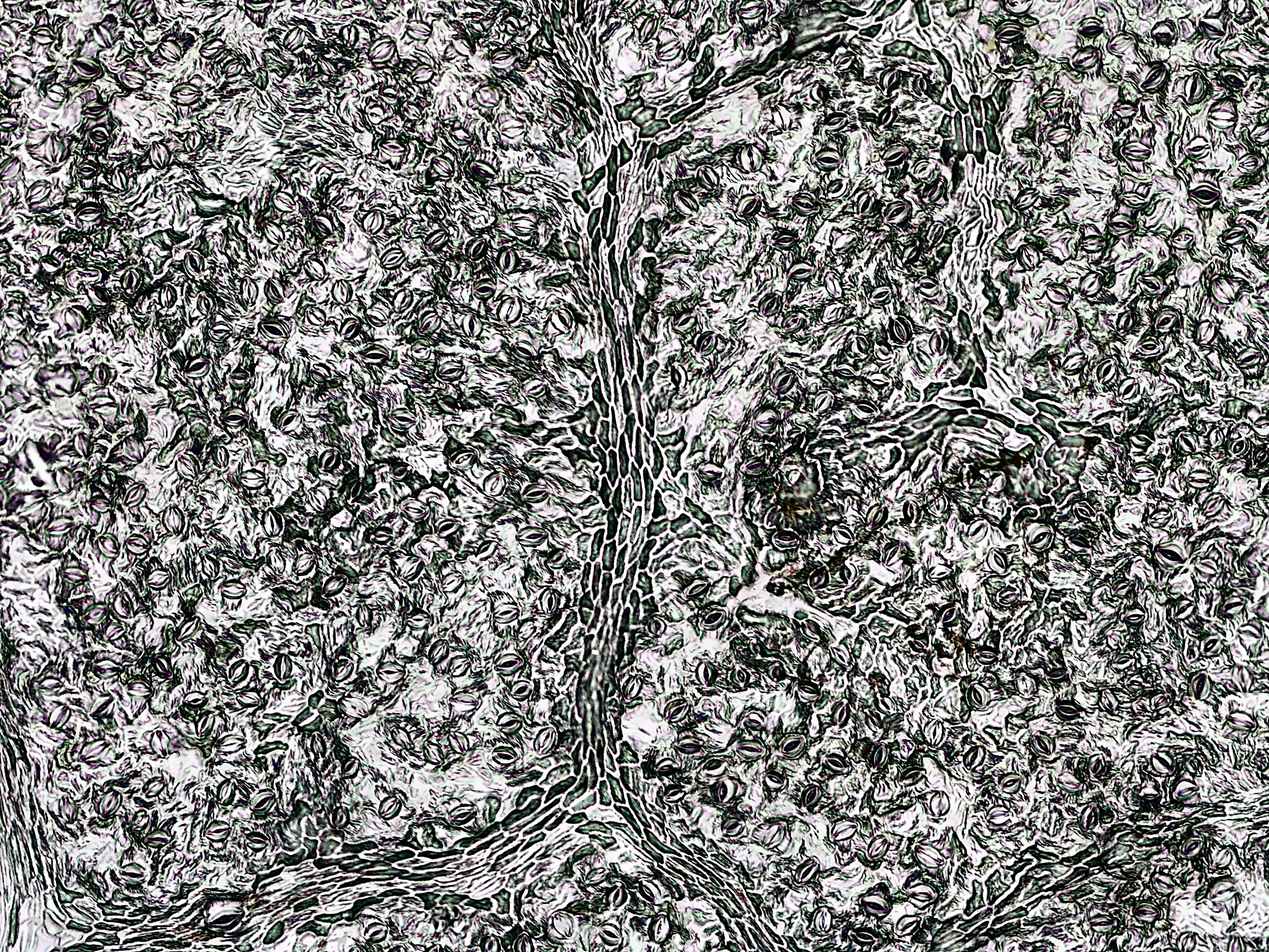stomata: (205, 905, 247, 931), (1071, 46, 1102, 74), (1154, 542, 1186, 569), (913, 843, 948, 867), (467, 157, 499, 183), (1189, 181, 1221, 207), (258, 316, 291, 341), (1150, 308, 1183, 333), (994, 21, 1028, 45), (1210, 276, 1238, 305), (1026, 524, 1055, 552), (738, 144, 765, 174), (635, 10, 660, 42), (1183, 72, 1207, 105), (734, 738, 767, 762), (860, 892, 893, 916), (672, 190, 700, 218), (534, 727, 559, 758), (337, 695, 369, 719), (368, 36, 395, 64), (778, 734, 807, 760), (448, 446, 478, 471), (812, 148, 843, 172), (821, 750, 852, 774), (398, 498, 430, 521), (1063, 532, 1095, 555), (24, 178, 52, 204), (694, 162, 719, 191), (1107, 212, 1136, 237), (173, 617, 202, 642), (924, 488, 949, 517), (515, 525, 551, 545), (494, 649, 524, 673), (694, 459, 724, 483), (215, 732, 249, 753), (150, 140, 173, 171), (0, 340, 31, 363), (1137, 274, 1168, 297), (171, 81, 203, 103), (376, 135, 408, 157), (249, 790, 276, 816), (792, 857, 818, 884), (735, 193, 763, 218), (175, 452, 200, 480), (1207, 877, 1236, 901), (924, 717, 945, 750), (1236, 153, 1266, 176), (45, 514, 75, 537), (261, 507, 284, 537), (72, 55, 103, 77), (219, 406, 250, 428), (162, 505, 184, 536), (1227, 711, 1258, 733), (88, 693, 114, 719), (440, 568, 466, 594), (423, 227, 450, 252), (1141, 63, 1166, 90), (1013, 185, 1038, 212), (377, 793, 402, 820), (761, 822, 786, 849), (884, 201, 912, 225), (1220, 225, 1252, 246), (550, 912, 574, 940), (962, 744, 986, 772), (1076, 16, 1105, 39), (376, 661, 405, 684), (539, 587, 562, 616), (1014, 670, 1037, 699), (116, 67, 146, 89), (45, 133, 67, 163), (387, 408, 417, 430), (92, 657, 122, 679), (142, 828, 172, 850), (649, 913, 671, 943), (1189, 669, 1211, 699), (1109, 32, 1137, 55), (1150, 22, 1178, 45), (1183, 137, 1211, 160), (81, 739, 109, 762), (741, 453, 769, 476), (359, 344, 391, 364), (770, 531, 802, 551), (497, 245, 519, 274), (889, 316, 911, 345), (865, 502, 887, 531), (880, 65, 901, 95), (1019, 243, 1040, 273), (521, 483, 551, 504), (1132, 898, 1162, 919), (1174, 432, 1199, 457), (261, 221, 287, 245), (853, 191, 877, 217), (493, 601, 519, 625), (770, 369, 794, 395), (881, 541, 905, 567), (1151, 869, 1175, 895), (120, 267, 143, 294), (183, 355, 210, 378), (483, 470, 506, 497), (55, 466, 78, 493), (123, 481, 146, 508), (810, 388, 833, 415), (713, 776, 736, 803), (1121, 141, 1152, 161), (1208, 108, 1239, 128), (498, 117, 526, 139), (196, 289, 218, 317), (1234, 346, 1262, 368), (265, 548, 287, 576), (451, 691, 479, 713), (928, 790, 950, 818), (812, 905, 833, 934), (1054, 700, 1083, 721), (74, 201, 104, 221), (1079, 273, 1104, 297), (1134, 337, 1164, 357), (821, 301, 846, 325), (277, 409, 302, 433), (399, 555, 423, 580), (205, 818, 230, 842), (421, 741, 445, 766), (1194, 321, 1217, 347), (1200, 493, 1226, 516), (123, 436, 146, 462), (437, 393, 463, 416), (963, 519, 989, 542), (967, 683, 990, 709), (283, 25, 305, 52), (831, 233, 858, 255), (120, 862, 147, 884), (496, 711, 523, 733), (638, 877, 660, 904), (664, 700, 691, 722), (620, 675, 642, 702), (830, 820, 857, 842), (849, 400, 880, 419), (185, 249, 206, 277), (471, 279, 499, 300), (89, 394, 117, 415), (462, 310, 483, 338), (553, 306, 574, 334), (239, 469, 267, 490), (150, 729, 171, 757), (345, 477, 366, 505), (98, 789, 119, 817), (449, 803, 477, 824), (656, 40, 685, 60), (738, 0, 767, 20), (868, 742, 888, 771), (451, 33, 475, 57), (322, 573, 346, 597), (339, 755, 363, 779), (599, 923, 623, 947), (7, 64, 32, 87), (781, 311, 806, 334), (48, 703, 71, 728), (292, 551, 315, 576), (391, 725, 414, 750), (793, 193, 819, 215), (1082, 232, 1108, 254), (1228, 434, 1250, 460), (896, 915, 922, 937), (65, 305, 86, 332), (500, 297, 521, 324), (1219, 67, 1246, 88), (1060, 353, 1087, 374), (98, 531, 119, 558), (448, 728, 469, 755), (492, 745, 519, 766), (606, 883, 627, 910), (755, 410, 782, 431), (198, 39, 226, 59), (511, 215, 539, 235), (880, 144, 908, 164), (1233, 664, 1253, 692), (274, 654, 292, 685), (476, 84, 500, 107), (547, 104, 571, 127), (87, 281, 110, 305), (271, 189, 295, 212), (465, 236, 488, 260), (1172, 226, 1195, 250), (758, 292, 781, 316), (673, 309, 696, 333), (151, 654, 175, 677), (807, 566, 831, 589), (1179, 834, 1203, 857), (239, 277, 258, 306), (1120, 190, 1149, 209), (437, 361, 466, 380), (125, 677, 154, 696), (59, 794, 78, 823), (157, 40, 182, 62), (380, 248, 405, 270), (868, 285, 893, 307), (126, 533, 151, 555), (1220, 594, 1245, 616), (1171, 778, 1196, 800), (0, 155, 21, 181), (418, 310, 439, 336), (436, 517, 462, 538), (696, 660, 717, 686), (867, 833, 888, 859), (1032, 729, 1053, 755), (197, 711, 215, 741), (987, 546, 1007, 573), (1079, 802, 1097, 832), (92, 21, 111, 49), (363, 208, 382, 236), (825, 270, 844, 298), (930, 329, 949, 357), (1131, 462, 1159, 481), (216, 778, 235, 806), (700, 611, 728, 630), (909, 883, 937, 902), (898, 767, 926, 786), (1087, 752, 1106, 780), (784, 427, 807, 450), (875, 691, 898, 714), (1151, 751, 1174, 774), (183, 129, 205, 153), (209, 320, 233, 342), (219, 582, 250, 599), (834, 697, 851, 728), (673, 736, 704, 753), (916, 275, 941, 296), (1119, 376, 1140, 401), (83, 604, 108, 625), (114, 593, 135, 618), (405, 609, 430, 630), (833, 524, 858, 545), (158, 281, 176, 310), (265, 277, 285, 303), (394, 287, 414, 313), (333, 277, 353, 303), (697, 331, 717, 357), (1072, 502, 1098, 522), (926, 564, 953, 583), (865, 374, 895, 391), (764, 769, 787, 791), (38, 252, 62, 273), (429, 156, 453, 177), (774, 102, 792, 130), (522, 376, 546, 397), (236, 690, 264, 708), (428, 639, 449, 663), (329, 806, 350, 830), (1090, 914, 1118, 932), (90, 361, 110, 386), (1249, 122, 1269, 147), (1046, 284, 1071, 304), (38, 676, 63, 696), (355, 604, 375, 629), (902, 499, 922, 524), (831, 644, 851, 669), (743, 710, 768, 730), (995, 585, 1020, 605), (986, 805, 1011, 825), (672, 360, 688, 391), (30, 25, 56, 44), (410, 64, 436, 83), (923, 180, 942, 206), (1047, 127, 1073, 146), (74, 431, 93, 457), (103, 622, 129, 641), (786, 261, 815, 278), (1187, 471, 1216, 488), (1113, 100, 1140, 118), (365, 921, 387, 943), (365, 306, 388, 327), (937, 603, 958, 626), (997, 772, 1020, 793), (228, 368, 252, 388), (1004, 0, 1034, 16), (1116, 311, 1136, 335), (776, 231, 800, 251), (6, 384, 30, 404), (474, 540, 498, 560), (510, 681, 534, 701), (798, 682, 822, 702), (801, 783, 821, 807), (850, 928, 878, 945), (512, 339, 537, 358), (319, 448, 338, 473), (89, 493, 114, 512), (584, 866, 609, 885), (1097, 358, 1115, 384), (1145, 510, 1171, 528), (684, 579, 710, 597), (661, 784, 687, 802), (1135, 784, 1161, 802), (311, 731, 327, 760), (90, 123, 112, 144), (306, 305, 328, 326), (450, 124, 471, 146), (1200, 18, 1222, 39), (311, 362, 333, 383), (148, 568, 169, 590), (331, 659, 352, 681), (513, 931, 535, 952), (646, 616, 667, 638), (1173, 931, 1195, 952), (1200, 634, 1221, 656), (407, 20, 430, 40), (389, 461, 412, 481), (307, 488, 327, 511), (200, 555, 220, 578), (986, 473, 1009, 493), (802, 618, 822, 641), (3, 310, 27, 329), (1040, 89, 1064, 108), (1059, 773, 1083, 792), (1100, 688, 1119, 712), (1238, 622, 1262, 641), (184, 691, 209, 709), (958, 462, 976, 487), (768, 659, 786, 684), (1122, 607, 1147, 625), (127, 0, 153, 17), (823, 114, 849, 131), (1130, 431, 1156, 448), (62, 568, 88, 585), (701, 758, 727, 775), (305, 258, 326, 279), (142, 775, 163, 796), (311, 212, 333, 232), (424, 199, 446, 219), (912, 159, 934, 179), (340, 317, 360, 339), (411, 339, 431, 361), (492, 48, 515, 67), (833, 52, 856, 71), (875, 105, 894, 128), (245, 831, 268, 850), (840, 563, 859, 586), (850, 334, 868, 358), (211, 444, 229, 468), (1252, 414, 1269, 439), (369, 526, 394, 543), (654, 757, 679, 774), (827, 179, 848, 199), (227, 661, 248, 681), (1173, 598, 1193, 619), (873, 341, 895, 360), (548, 549, 570, 568), (450, 654, 469, 676), (764, 506, 783, 528), (731, 666, 750, 688), (1212, 845, 1231, 867), (83, 99, 109, 115), (0, 21, 18, 44), (319, 54, 337, 77), (668, 0, 691, 18), (1195, 557, 1218, 575), (911, 73, 928, 97), (338, 25, 358, 45), (403, 100, 423, 120), (1110, 654, 1135, 670), (722, 817, 743, 836), (443, 257, 458, 282), (976, 648, 998, 665), (864, 709, 881, 731), (76, 162, 99, 178), (99, 463, 115, 486), (368, 105, 387, 124), (808, 79, 826, 99), (1209, 425, 1224, 449), (481, 934, 501, 952), (834, 363, 858, 378), (1226, 934, 1246, 952), (1112, 578, 1132, 596), (1252, 446, 1269, 467), (113, 168, 128, 191), (903, 243, 918, 266), (133, 808, 148, 831), (0, 114, 19, 132), (1153, 692, 1171, 711), (242, 0, 276, 10), (505, 15, 522, 35), (1106, 631, 1124, 649), (223, 58, 242, 75), (48, 82, 65, 101), (1185, 755, 1202, 774), (161, 326, 175, 349), (380, 87, 400, 103), (1227, 0, 1247, 16), (1126, 676, 1145, 692), (1047, 667, 1068, 681), (469, 20, 486, 36), (909, 638, 926, 652), (749, 638, 762, 656)
